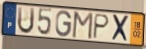5: (36, 7, 53, 38)
G: (55, 9, 73, 38)
M: (71, 11, 95, 41)
P: (91, 12, 111, 40)
U: (16, 6, 36, 36)
X: (111, 14, 130, 44)
